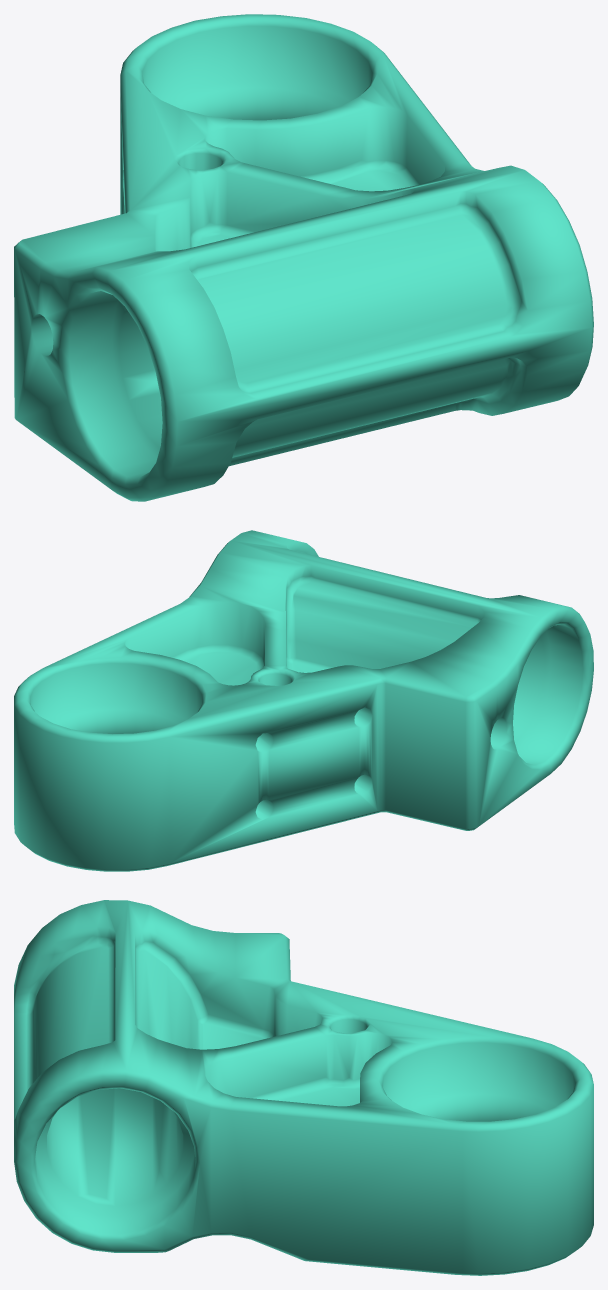
File: right_hip_roll.obj
3 views of the same model, one above another, from view 1: azimuth 30°, elevation 25°; view 2: azimuth 150°, elevation 25°; view 3: azimuth 270°, elevation 25° (orthographic). The views are drawn at different scales.
Size of the model in its own units: 0.1013 by 0.044 by 0.1261.
